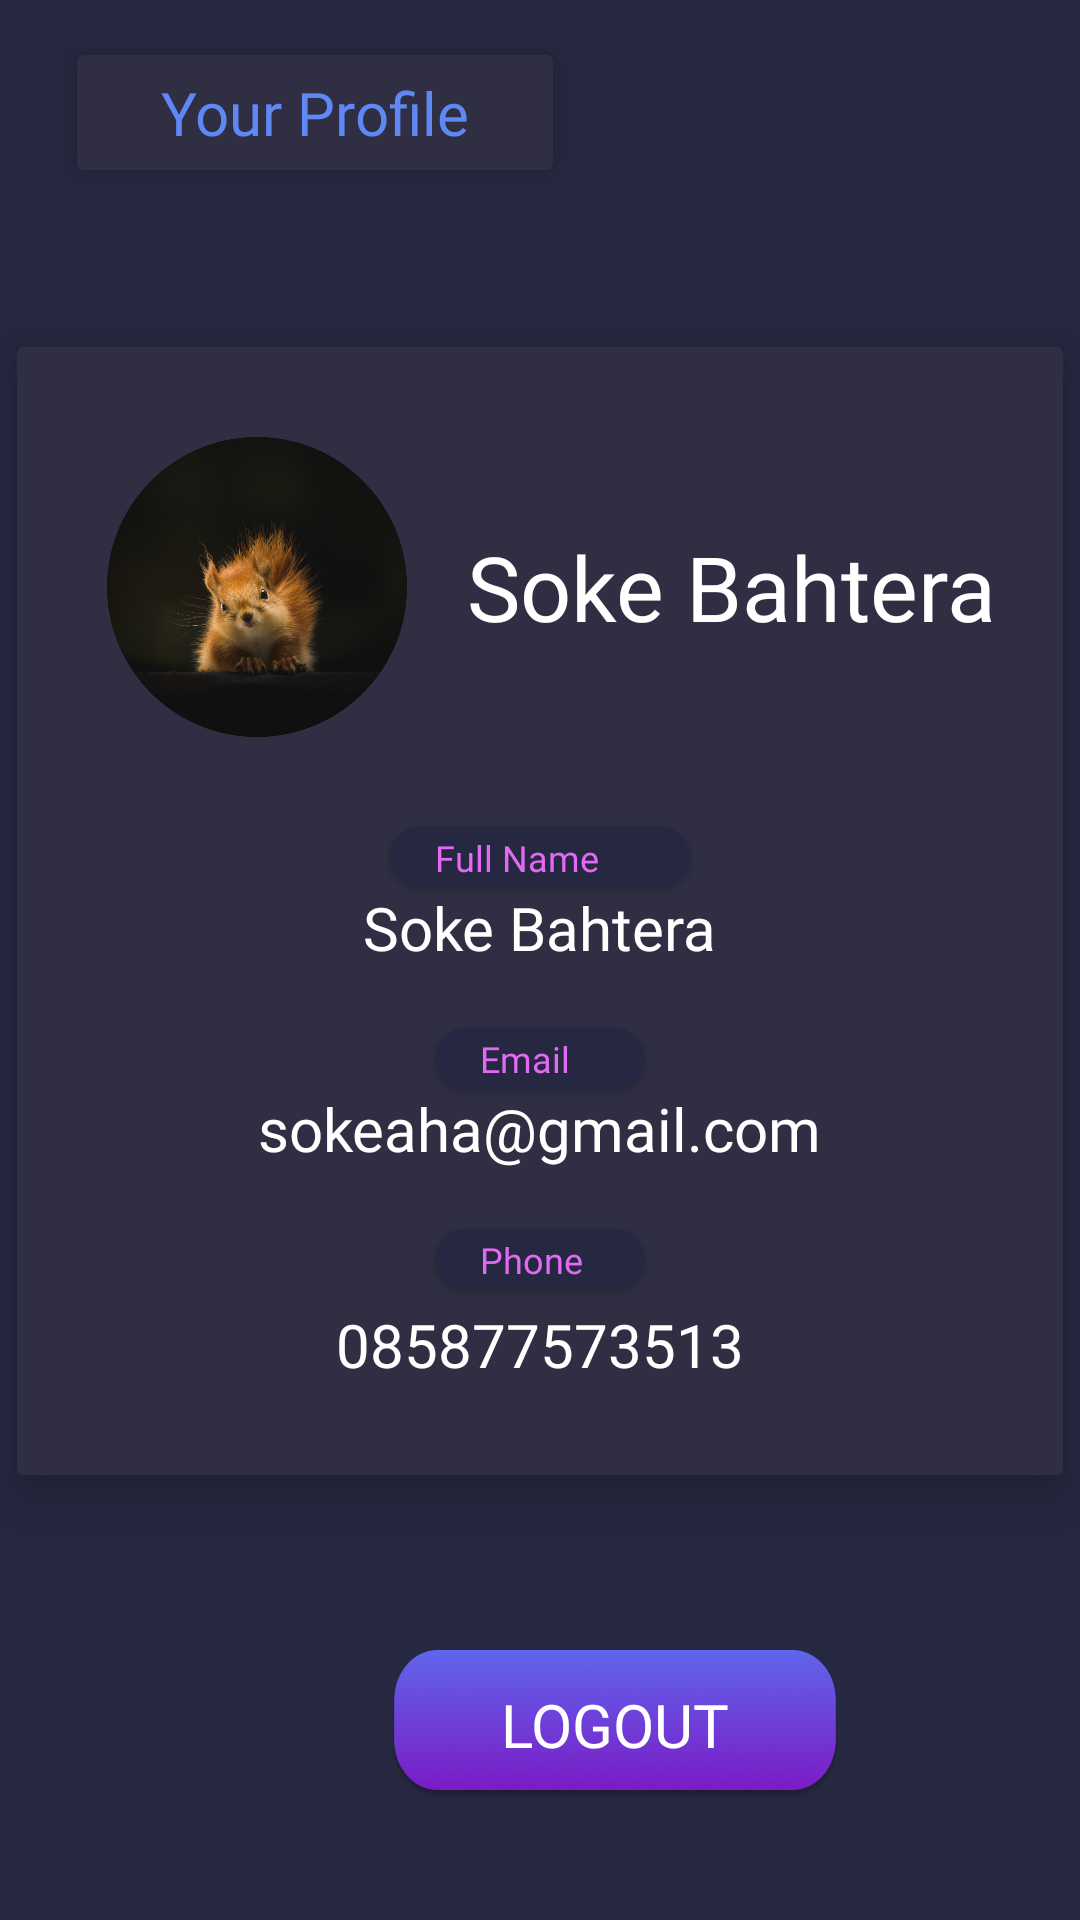

Icons on this 1080×1920 Android screen, each with the point to tap as (x=x, y=y):
profile: (x=257, y=587)
